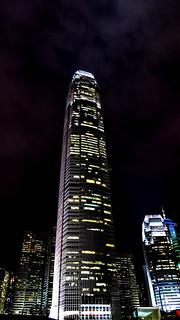building: (49, 67, 126, 320), (141, 210, 180, 318)
